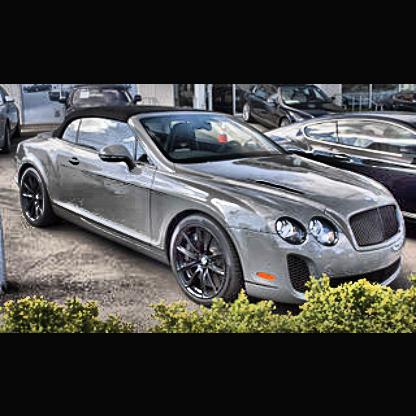Bentley Continental Supersports Conv- Convertible 2012: (17, 106, 407, 315)
